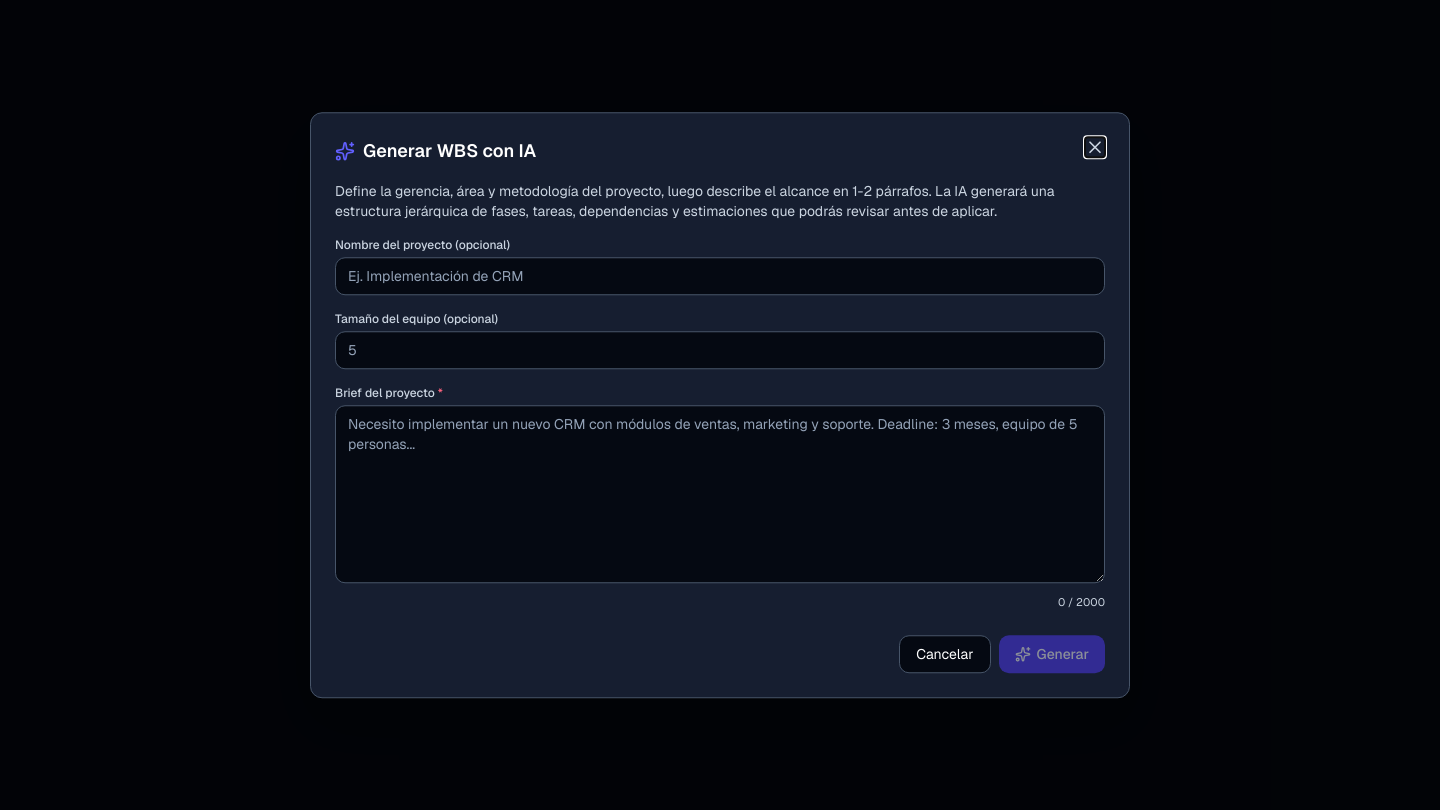
Scenario: WBSGeneratorDialog › muestra mensaje de error cuando la action lanza
Type "Implementar CRM con módulo de ventas" into the text box labelled "Brief del proyecto *" at [720, 494], box [335, 405, 1105, 583]
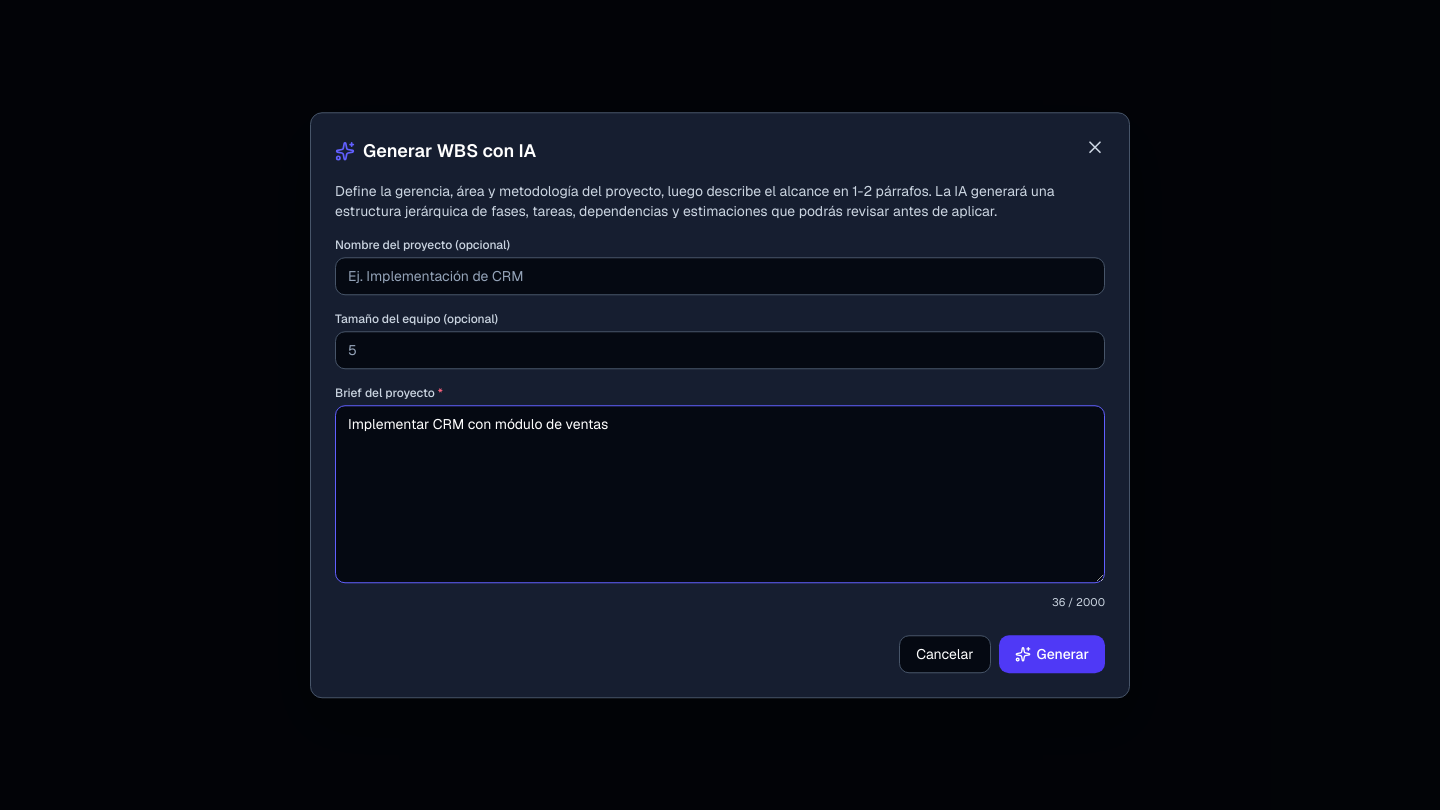
Click the button "Generar" at [1052, 654], box [998, 635, 1105, 673]
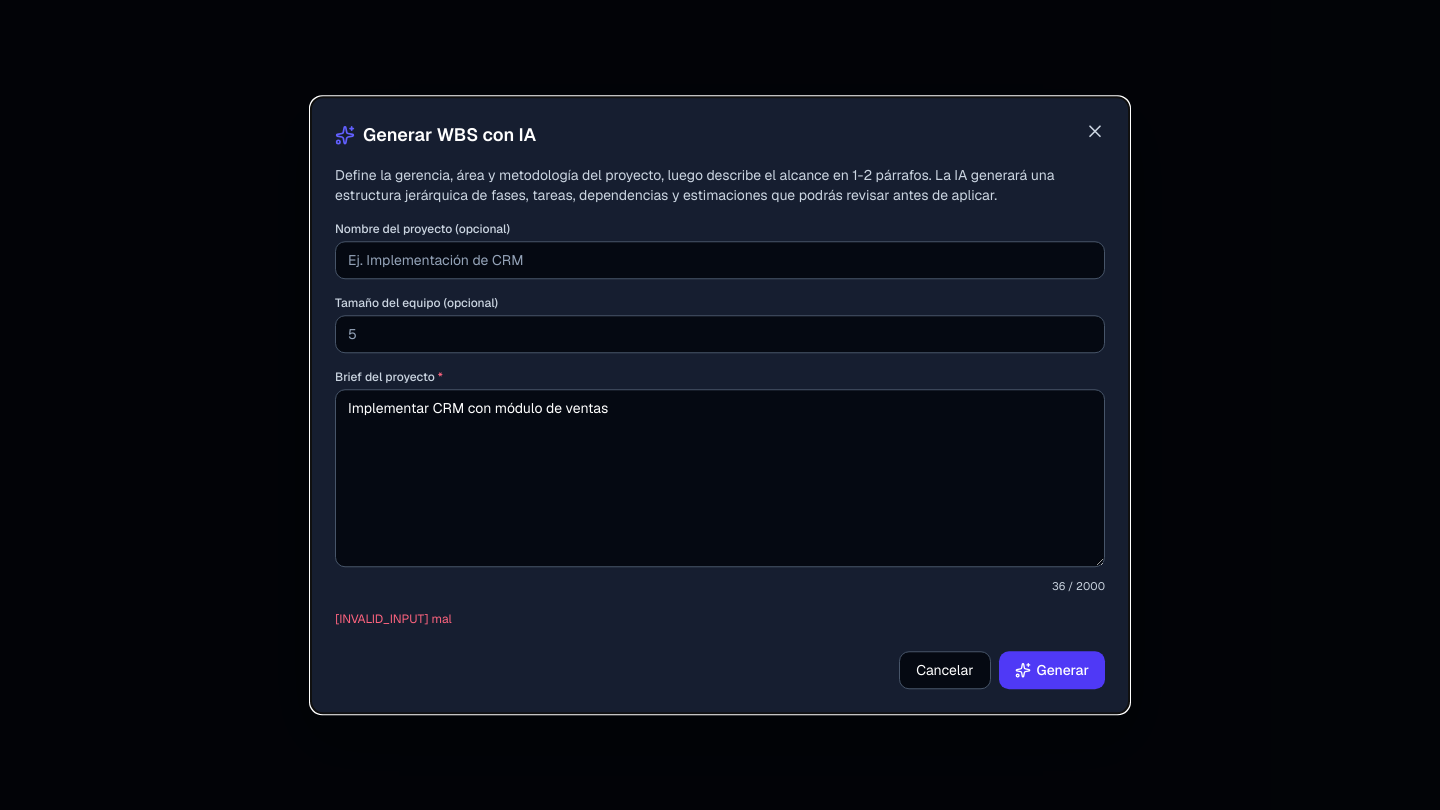
Expected: the message shows "INVALID_INPUT", [335, 611, 452, 627]
